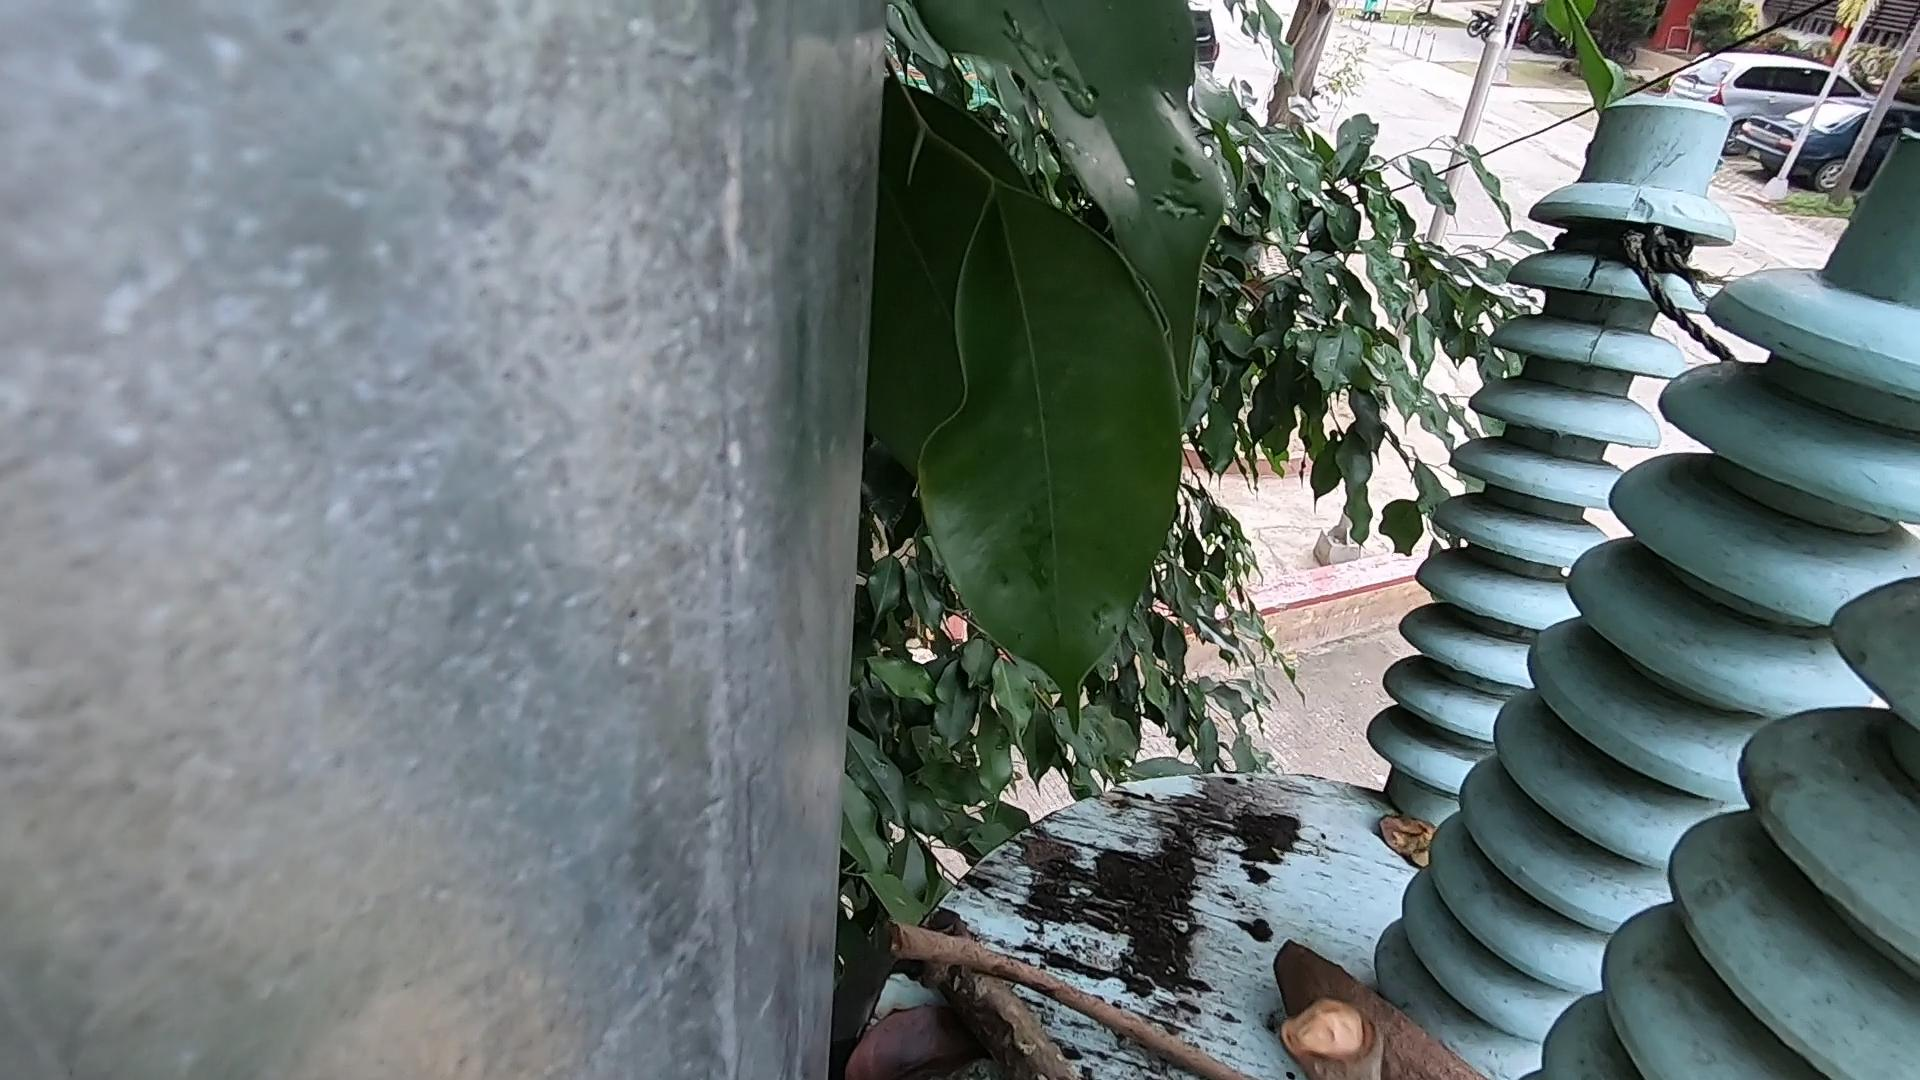branch with leaves: (899, 920, 1023, 1080)
leaf: (828, 986, 1029, 1080), (1375, 803, 1464, 873)
mahogany fruit: (1274, 899, 1466, 1051)
tree branch: (891, 923, 1250, 1080), (1288, 967, 1425, 1080)
